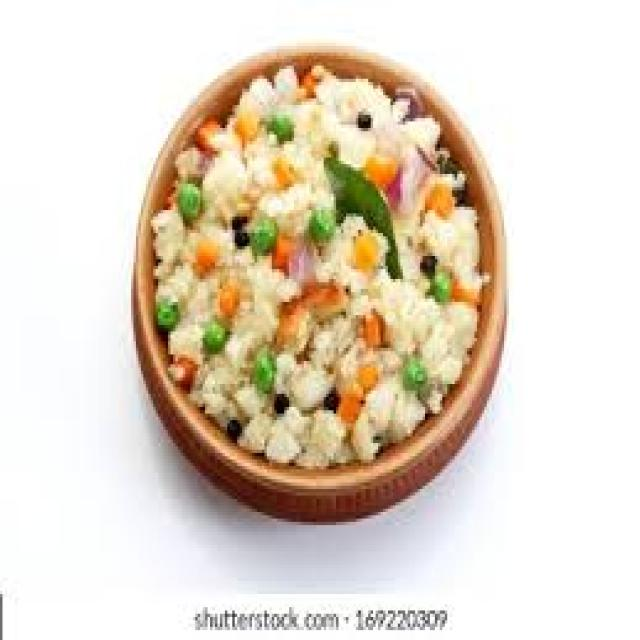UPMA: (151, 66, 482, 463)
